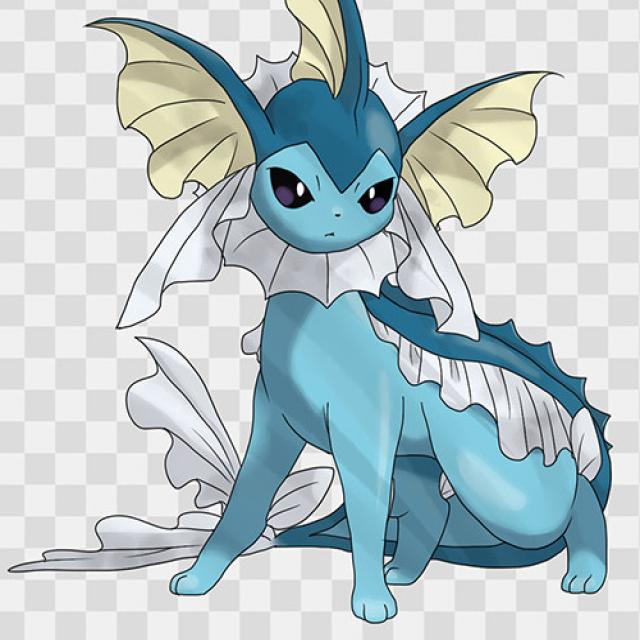Vaporeon: (157, 42, 556, 498)
